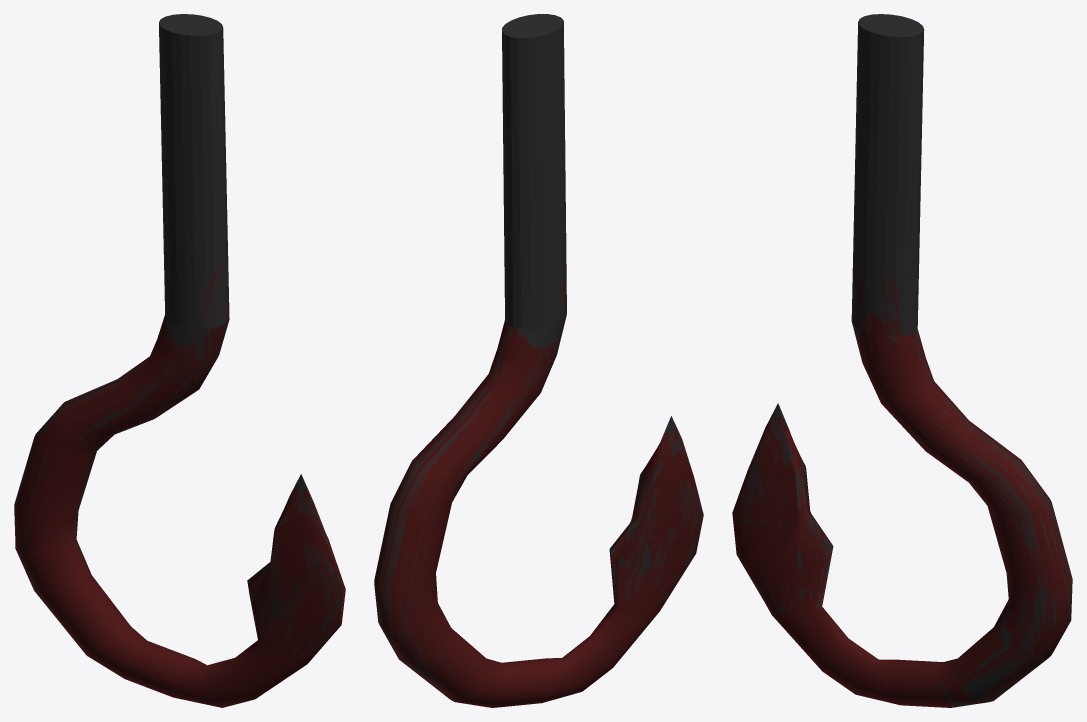
Rendered from vleeshaak_v3.fbx.
The picture shows the model from 3 angles, left to right: view 1: azimuth 90°, elevation 25°; view 2: azimuth 150°, elevation 25°; view 3: azimuth 270°, elevation 25°; orthographic projection. The views are drawn at different scales.
Parts seen in each view (by area): view 1: pCylinder23; view 2: pCylinder23; view 3: pCylinder23.
Part boxes in pixels (x1,y1,x2,y2): pCylinder23: (14,14,345,707); pCylinder23: (374,14,703,707); pCylinder23: (732,14,1072,707).
Bounding box in the file's own units: 39.12 × 145 × 65.13.
